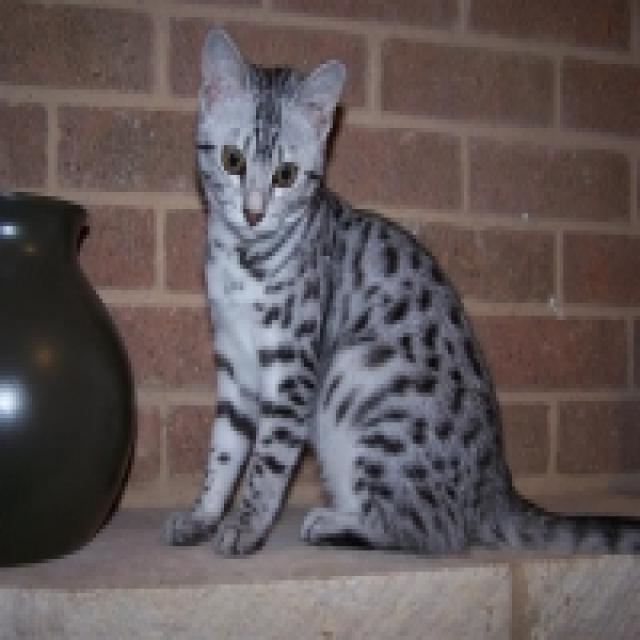Egyptian_Mau: (192, 21, 342, 256)
